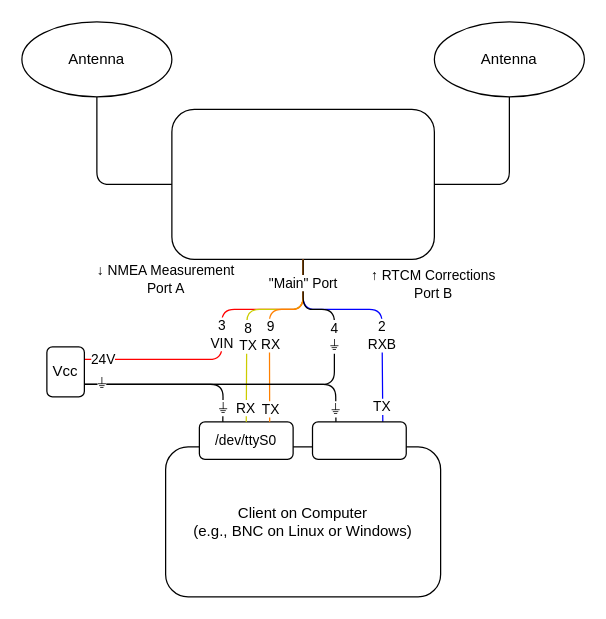
The diagram is 606 pixels wide and 619 high, and some of its shapes have lost their labels. The centre of each missing label's shape, as x and y in pixels:
"/dev/ttyS1" belongs at (358,440).
"GNSS Receiver (e.g., SBG Ellipse D)" belongs at (302,183).
